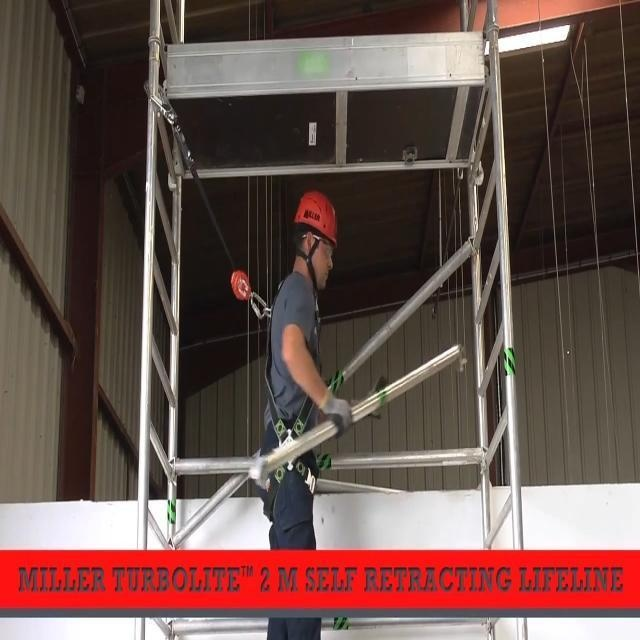Arnes_seguridad: (255, 253, 330, 520)
